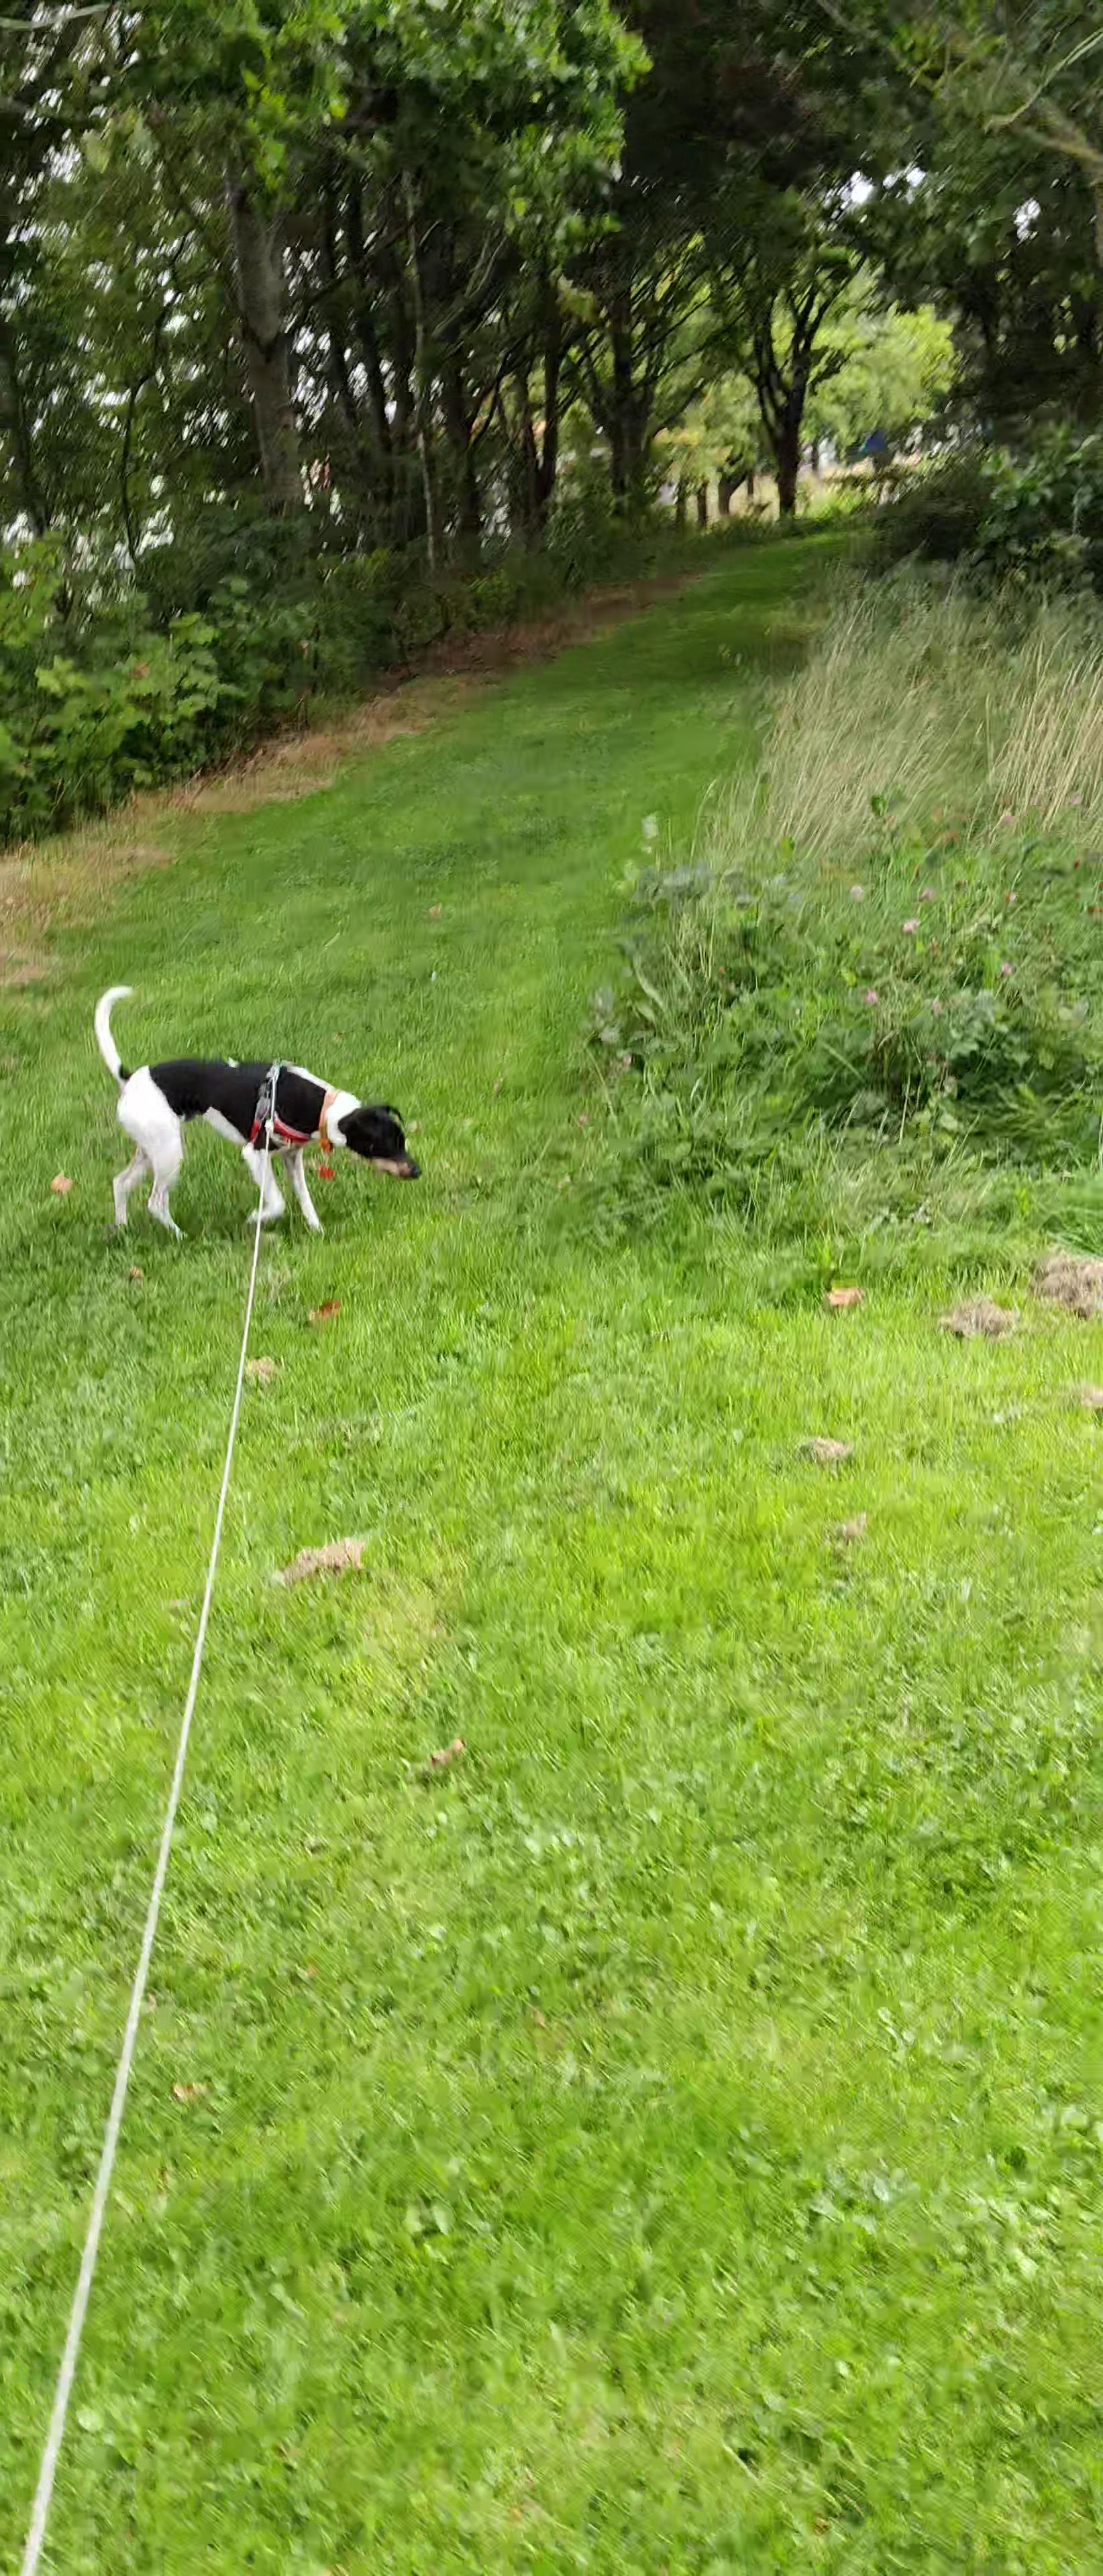Dog: (89, 982, 424, 1237)
